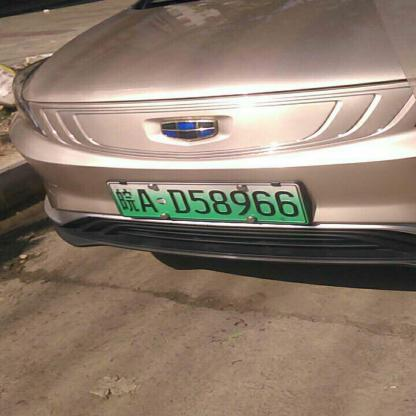lp: (108, 184, 306, 221)
